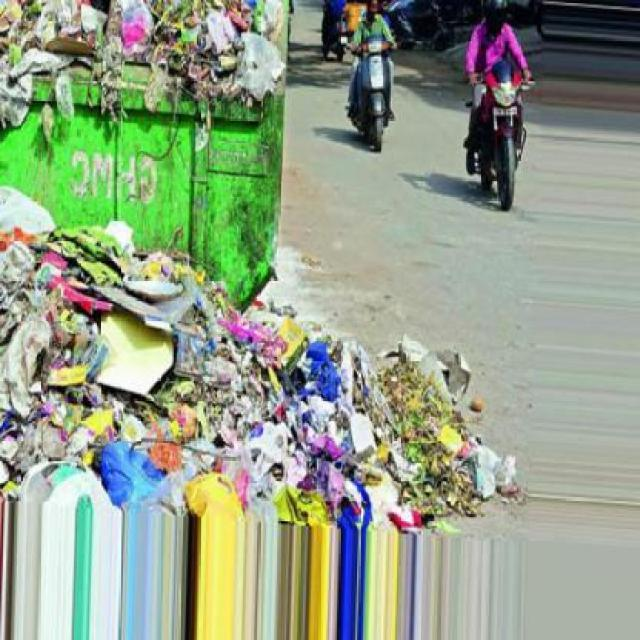garbage: (0, 189, 528, 536), (0, 0, 281, 166)
